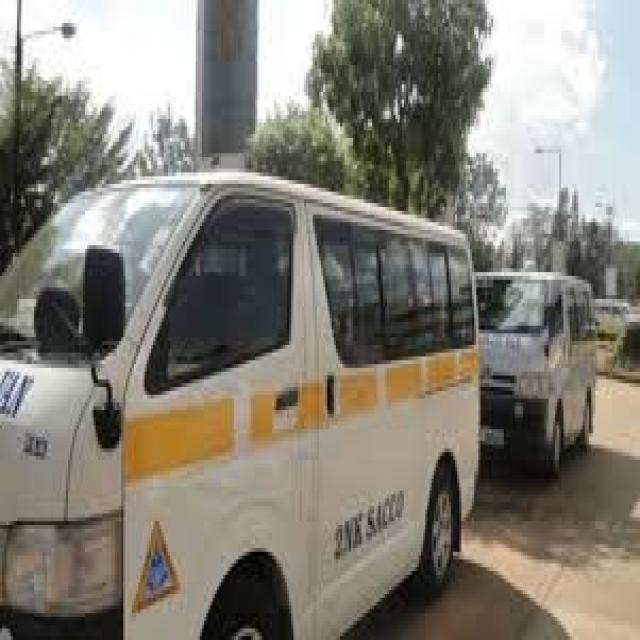matatu: (0, 140, 490, 640), (498, 242, 605, 480)
